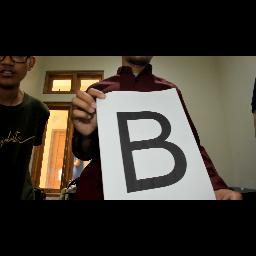b: (108, 107, 192, 197)
